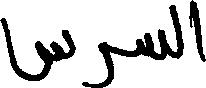X: (0, 13, 74, 85), (85, 37, 114, 87), (137, 24, 164, 64), (189, 0, 205, 66), (170, 0, 183, 63)
